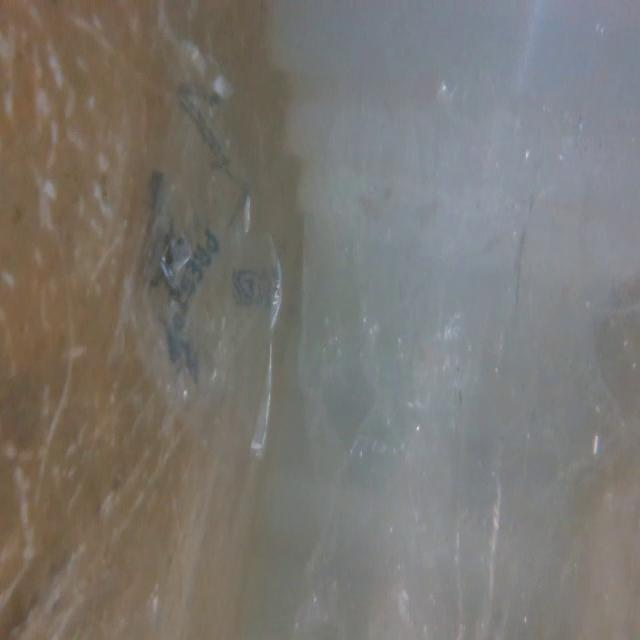plastic bags: (309, 16, 614, 640), (95, 24, 284, 490)
